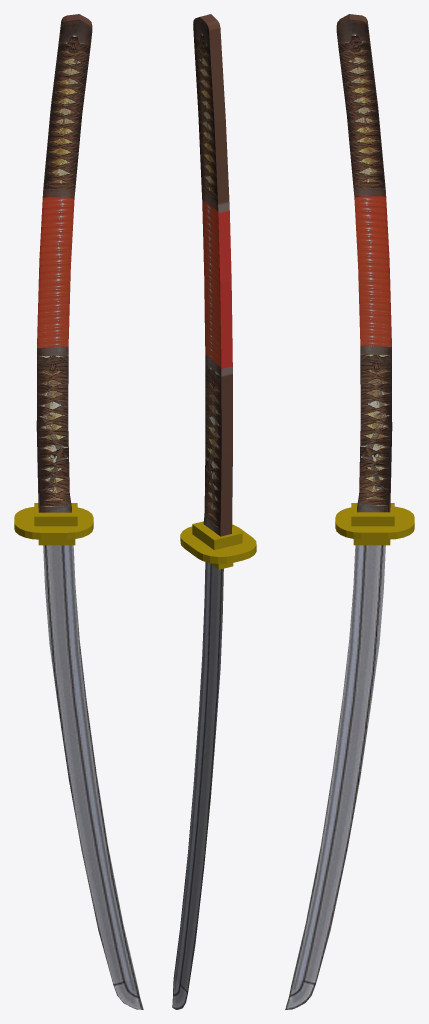
File: YCNagamaki.fbx
3 views of the same model, side by side, from view 1: azimuth 90°, elevation 25°; view 2: azimuth 210°, elevation 25°; view 3: azimuth 270°, elevation 25° (orthographic). The views are drawn at different scales.
Visible parts, largest first — view 1: YCNagamaki; view 2: YCNagamaki; view 3: YCNagamaki.
Boxes of the visible parts, x1,y1,x2,y2 form: YCNagamaki: (14,14,143,1009); YCNagamaki: (172,14,256,1009); YCNagamaki: (285,14,414,1009).
Bounding box in the file's own units: 0.0489 × 0.8544 × 0.1011.
